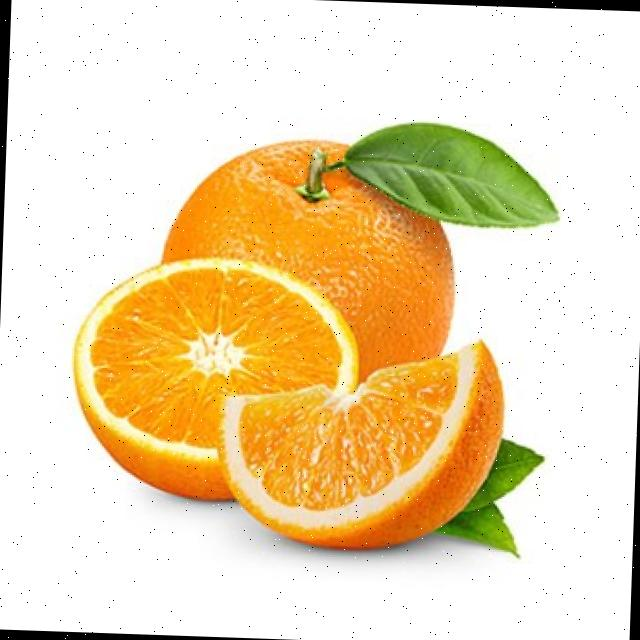Jeruk: (156, 132, 460, 386), (67, 249, 362, 506), (212, 328, 506, 555)
